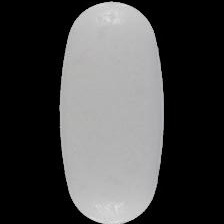60429-310: (0, 0, 224, 224)
